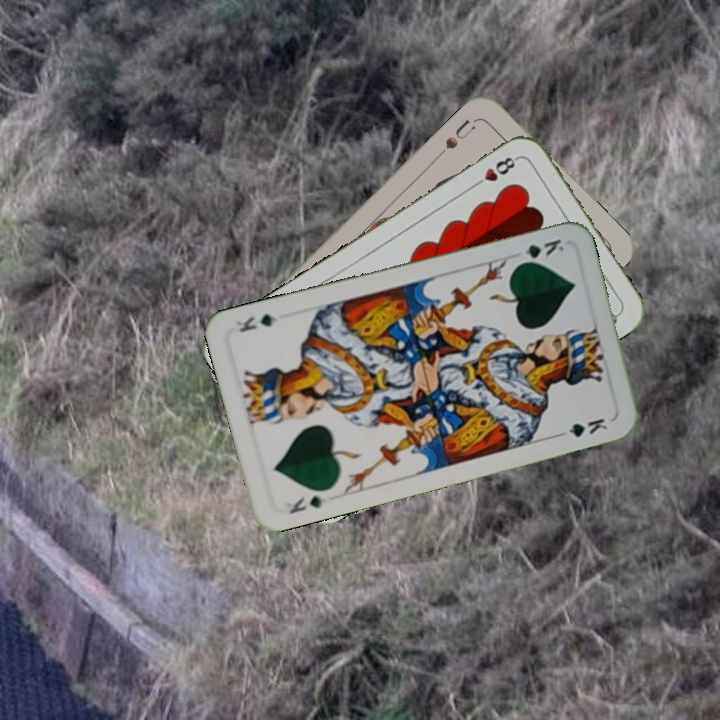GK: (512, 234, 567, 268), (282, 491, 329, 517)
H8: (468, 153, 521, 191)
SU: (434, 113, 482, 159)
